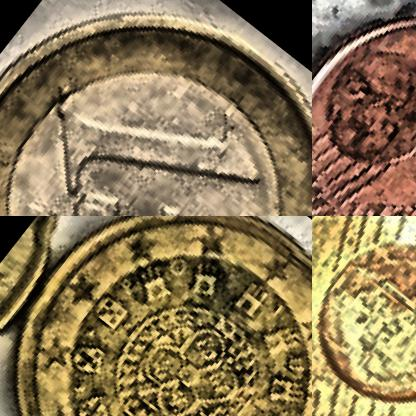coin: (0, 0, 311, 215), (0, 216, 311, 415), (312, 0, 415, 215), (312, 216, 415, 415)
